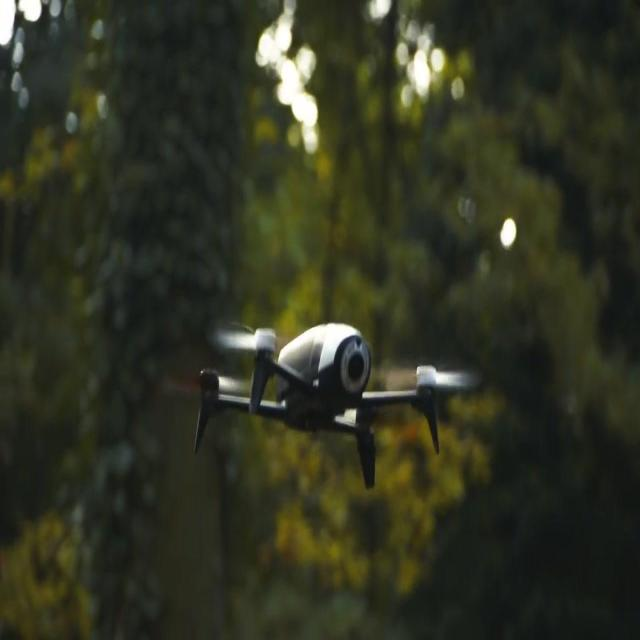drone: (190, 311, 475, 492)
